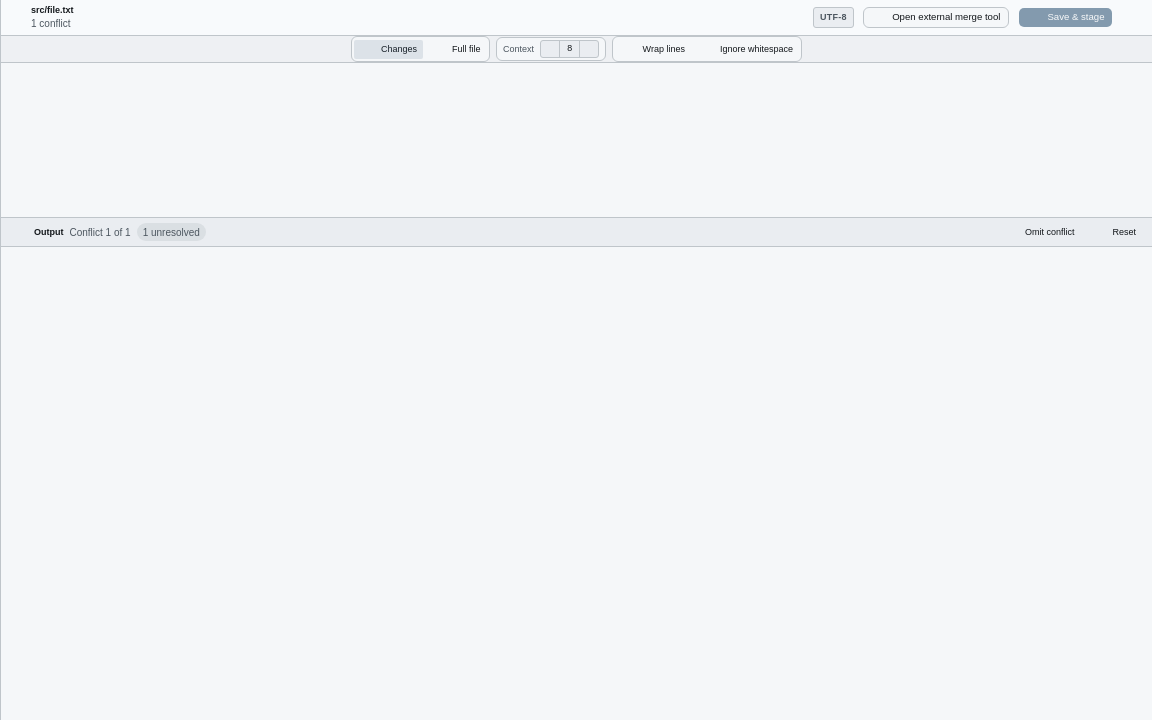
ConflictResolutionView safety states › requires explicit omit and lets reset return it to unresolved base content
Click the button "Omit conflict" at (1039, 232), box [997,223,1082,241]
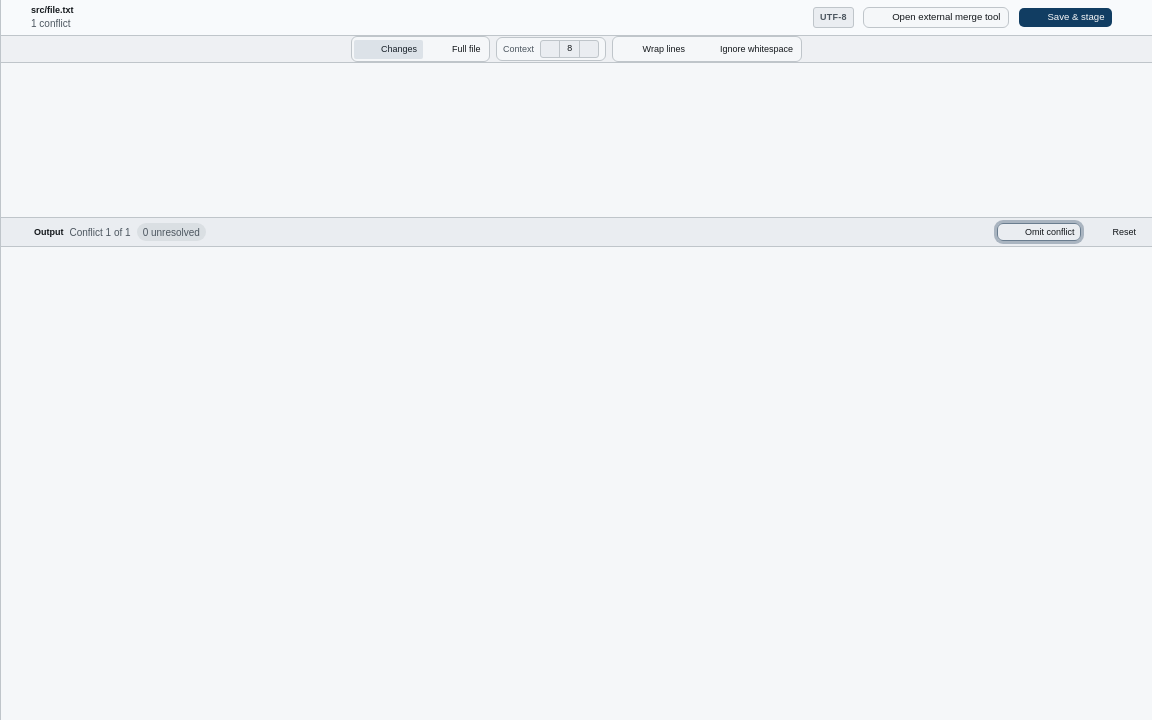
Expected: the button "Save & stage" is enabled, [1018,7,1113,28]
Click the button "Reset" at (1114, 232), box [1084,223,1143,241]
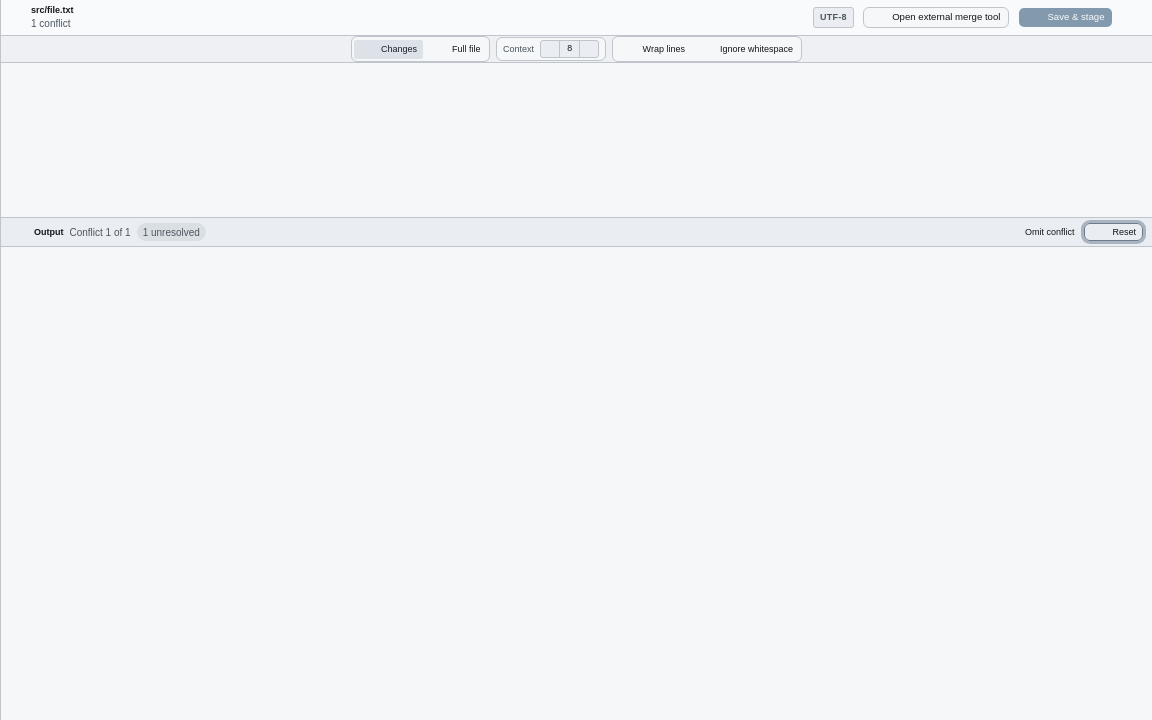
Expected: the button "Save & stage" is disabled, [1018,7,1113,28]
